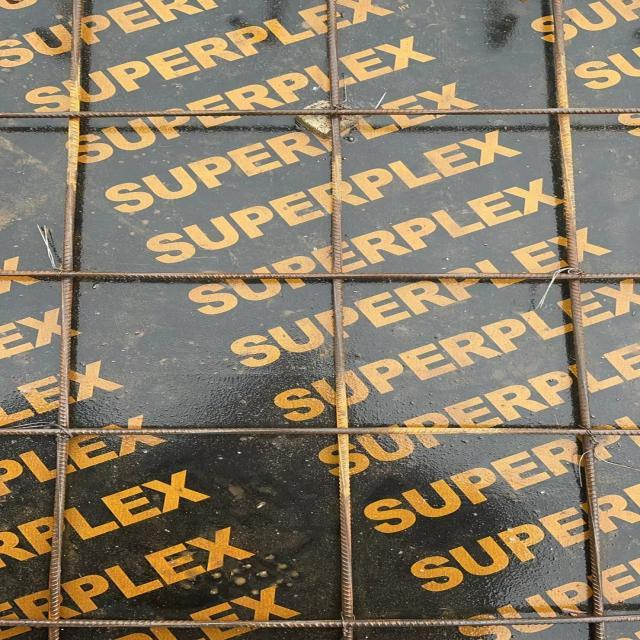ribbed bar: (549, 0, 603, 639), (46, 0, 83, 639), (324, 0, 356, 639), (0, 107, 639, 119), (0, 614, 639, 626), (0, 269, 639, 279), (0, 428, 639, 437)
